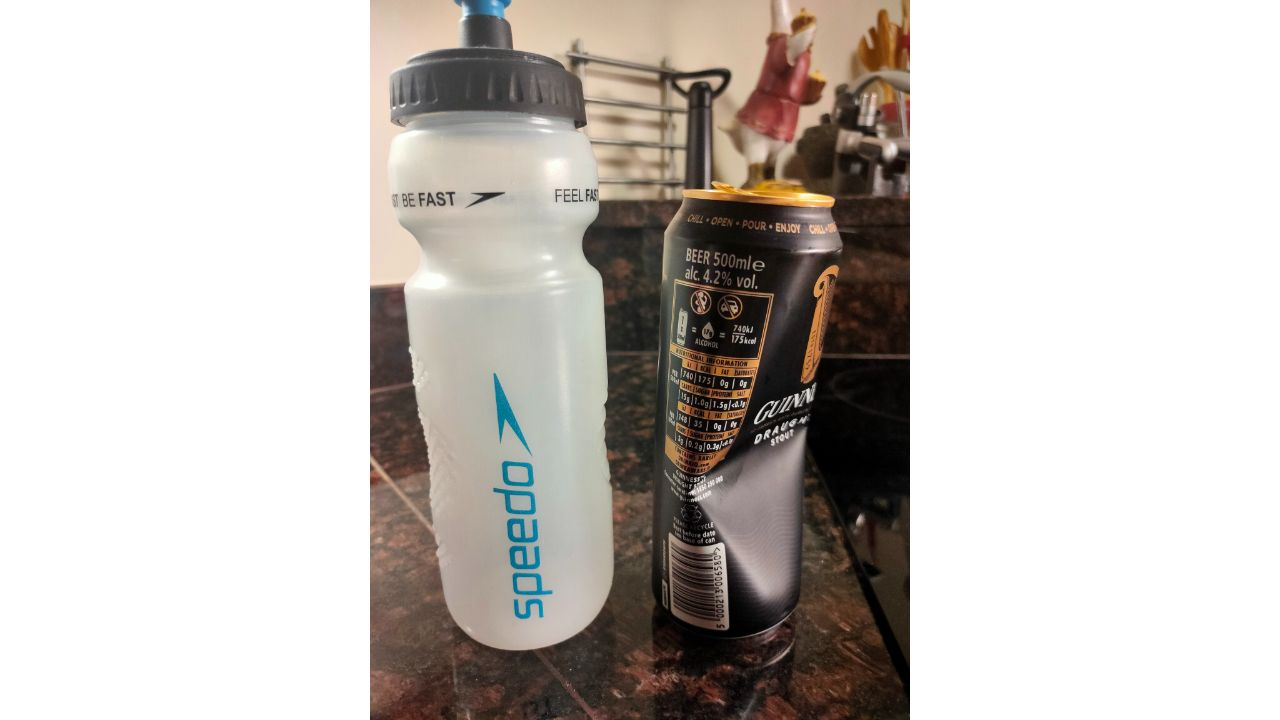Can: (657, 181, 845, 649)
